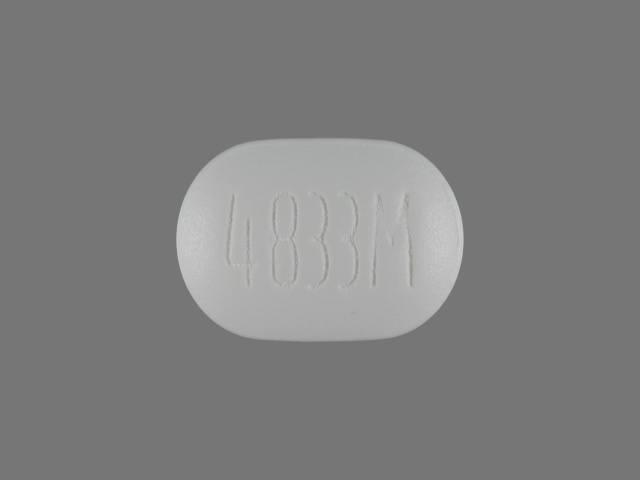3: (303, 190, 332, 292), (334, 190, 363, 292)
4: (221, 191, 262, 290)
8: (268, 190, 303, 292)
M: (370, 189, 420, 291)
